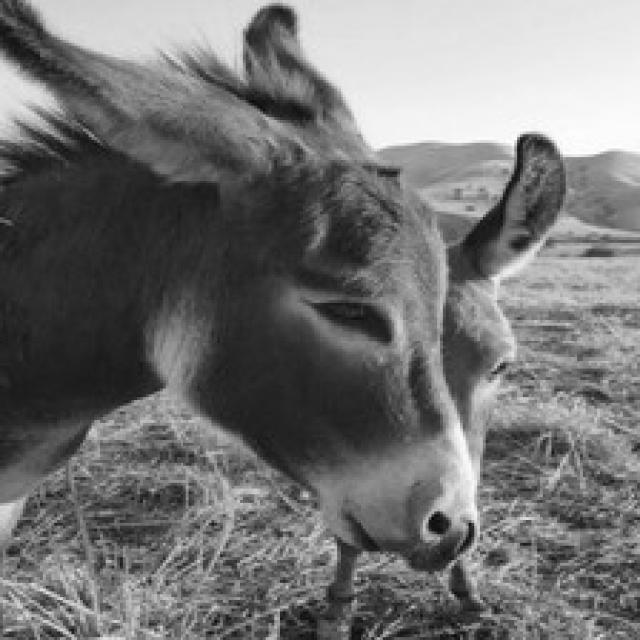Donkey: (0, 0, 566, 637)
